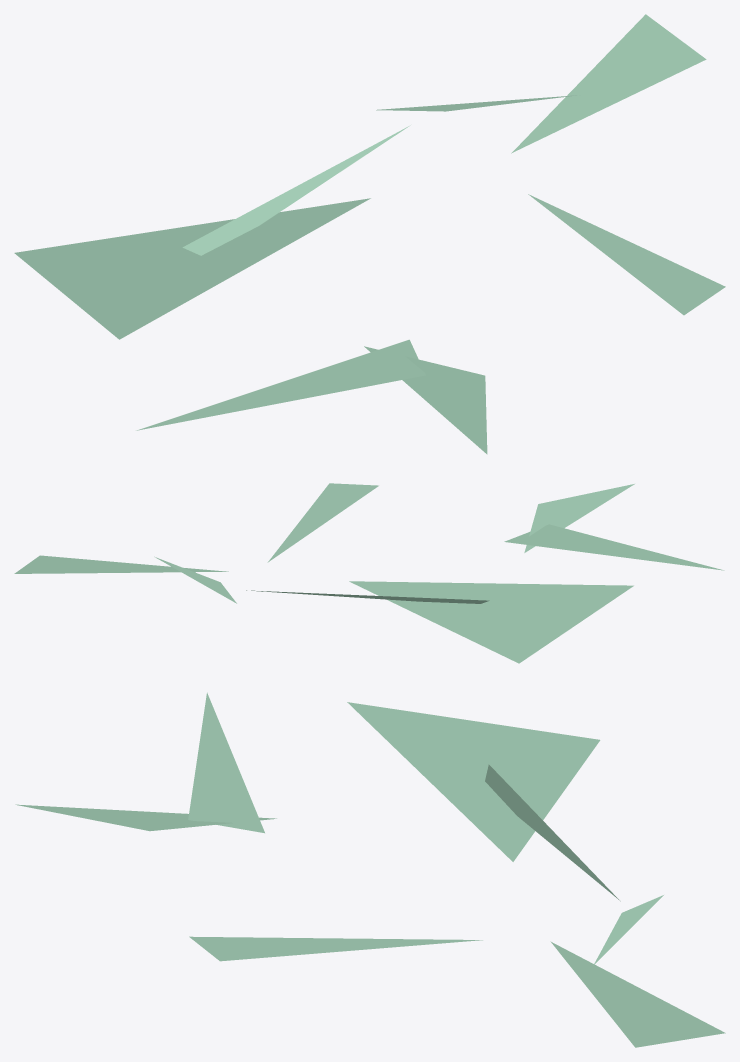
Rendered from glass_shards.fbx.
The picture shows the model from 3 angles, top to bottom: view 1: azimuth 30°, elevation 25°; view 2: azimuth 150°, elevation 25°; view 3: azimuth 270°, elevation 25°; orthographic projection. The views are drawn at different scales.
Parts seen in each view (by area): view 1: glass_shards; view 2: glass_shards; view 3: glass_shards.
Part boxes in pixels (box(x1,y1,x2,y2)): glass_shards: box(14, 14, 725, 454); glass_shards: box(14, 483, 724, 663); glass_shards: box(15, 692, 725, 1047).
Bounding box in the file's own units: 0.08 × 0.00274 × 0.0677.
